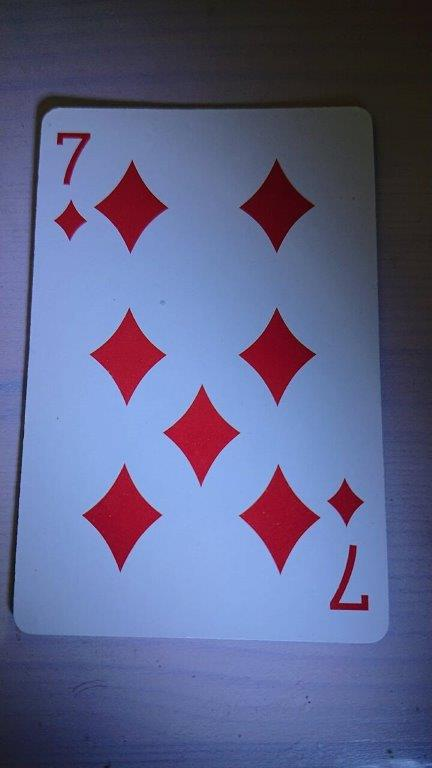7D: (11, 104, 392, 647)
